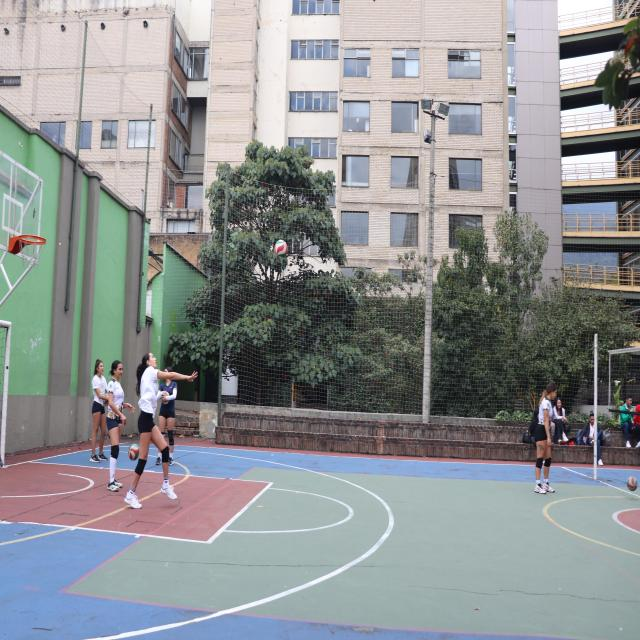volleyball: (274, 240, 288, 260), (128, 444, 139, 461), (627, 476, 638, 491)
